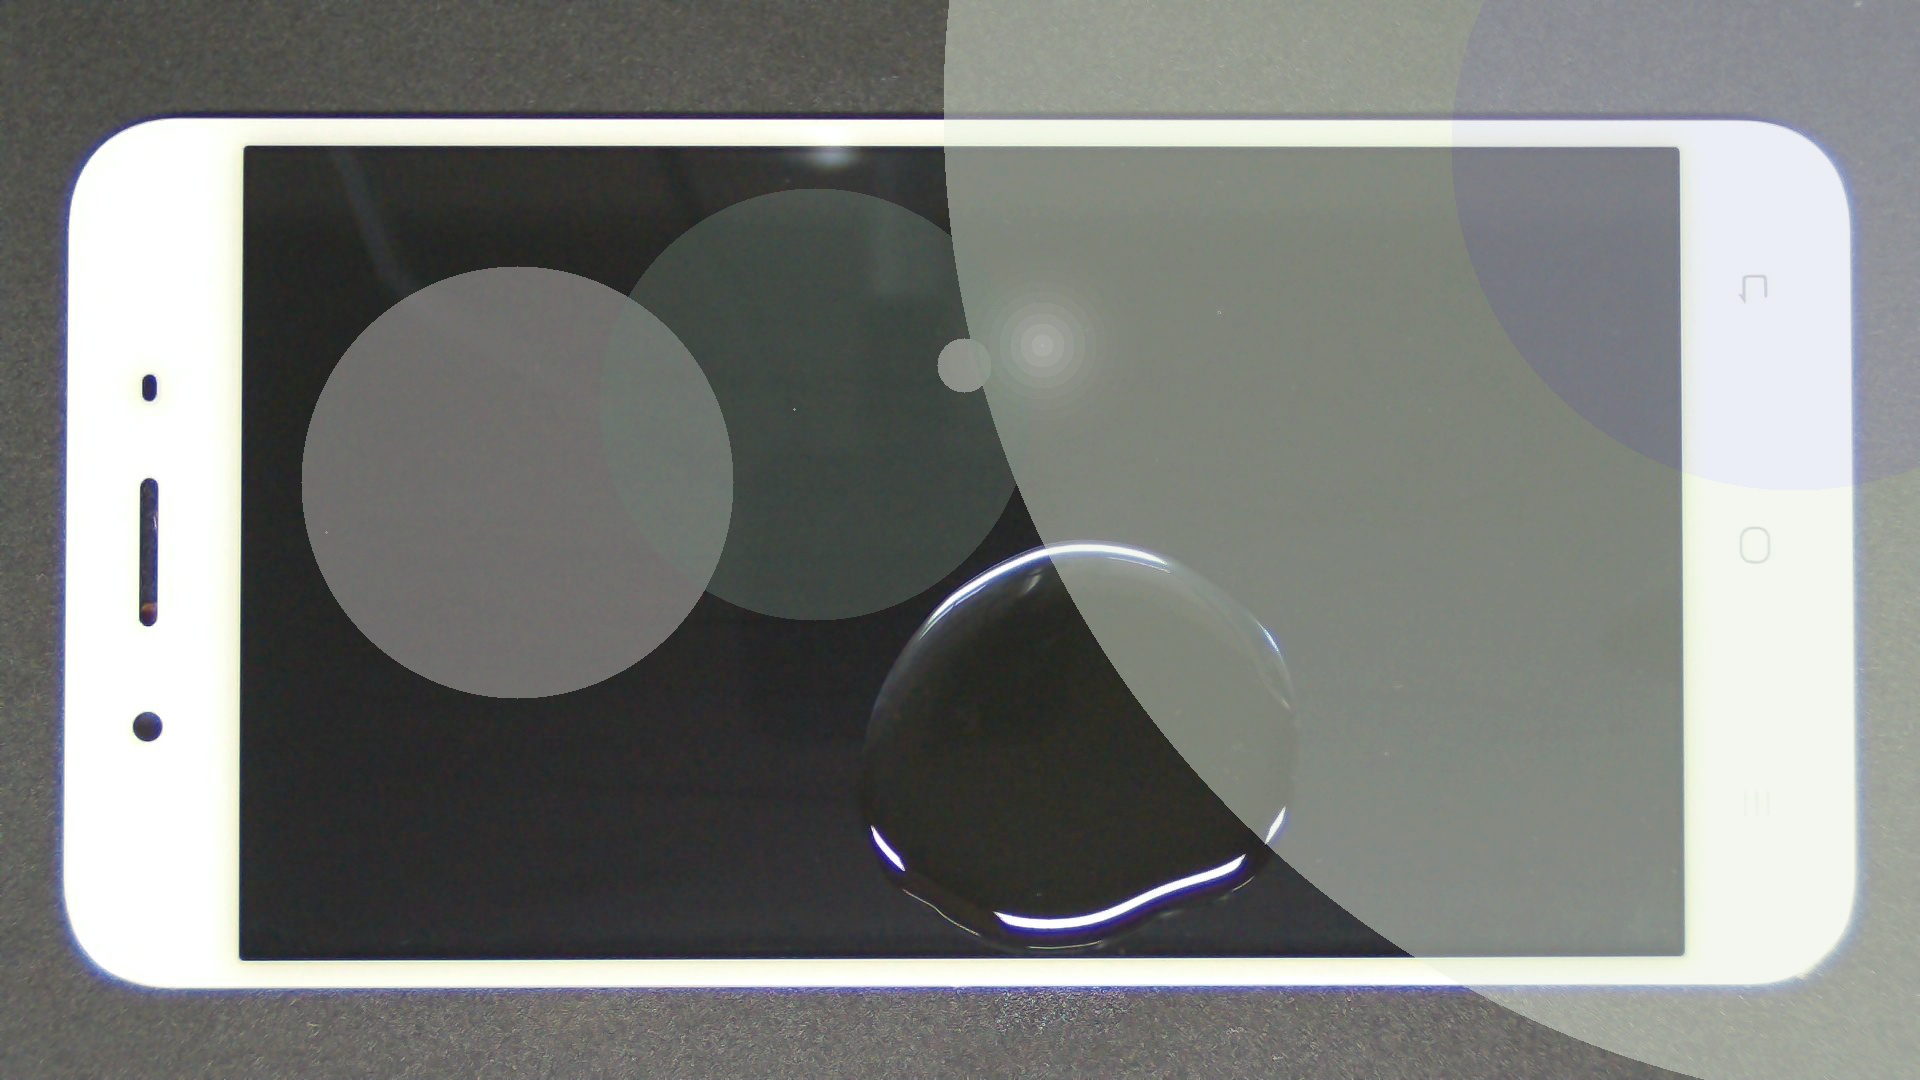oil: (538, 269, 1614, 811)
